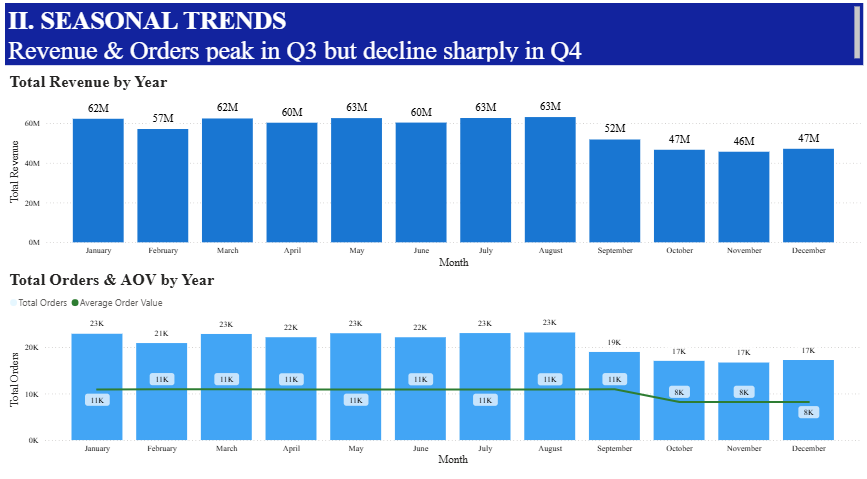

The dashboard page shown, as its layout file describes it:
{"tool":"powerbi","page":{"name":"II. SEASONAL TRENDS","canvas":[1280,720],"ordinal":1},"visuals":[{"type":"lineClusteredColumnComboChart","title":"Total Revenue by Year","fields":{"Category":["VI  Trends by Month.month.Variation.Date Hierarchy.Month"],"Y":["Sum(VI  Trends by Month.total_revenue)"]},"box":[10.1,116.6,1255.7,276.5],"z":0},{"type":"lineClusteredColumnComboChart","title":"Total Orders & AOV by Year","fields":{"Category":["VI  Trends by Month.month.Variation.Date Hierarchy.Month"],"Y":["Sum(VI  Trends by Month.total_orders)"],"Y2":["Sum(VI  Trends by Month.aov)"]},"box":[11.5,407.5,1255.7,276.5],"z":1000},{"type":"textbox","box":[10.1,2.9,1255.7,105.1],"z":2000}]}

Visuals, with their boxes in screenshot pixels (x1, y1, x2, y2), scaled from the page's 1280x720 canvas onto the 867x479 screenshot:
"Total Revenue by Year" lineClusteredColumnComboChart: <bbox>7, 78, 857, 262</bbox>
"Total Orders & AOV by Year" lineClusteredColumnComboChart: <bbox>8, 271, 858, 455</bbox>
textbox: <bbox>7, 2, 857, 72</bbox>
